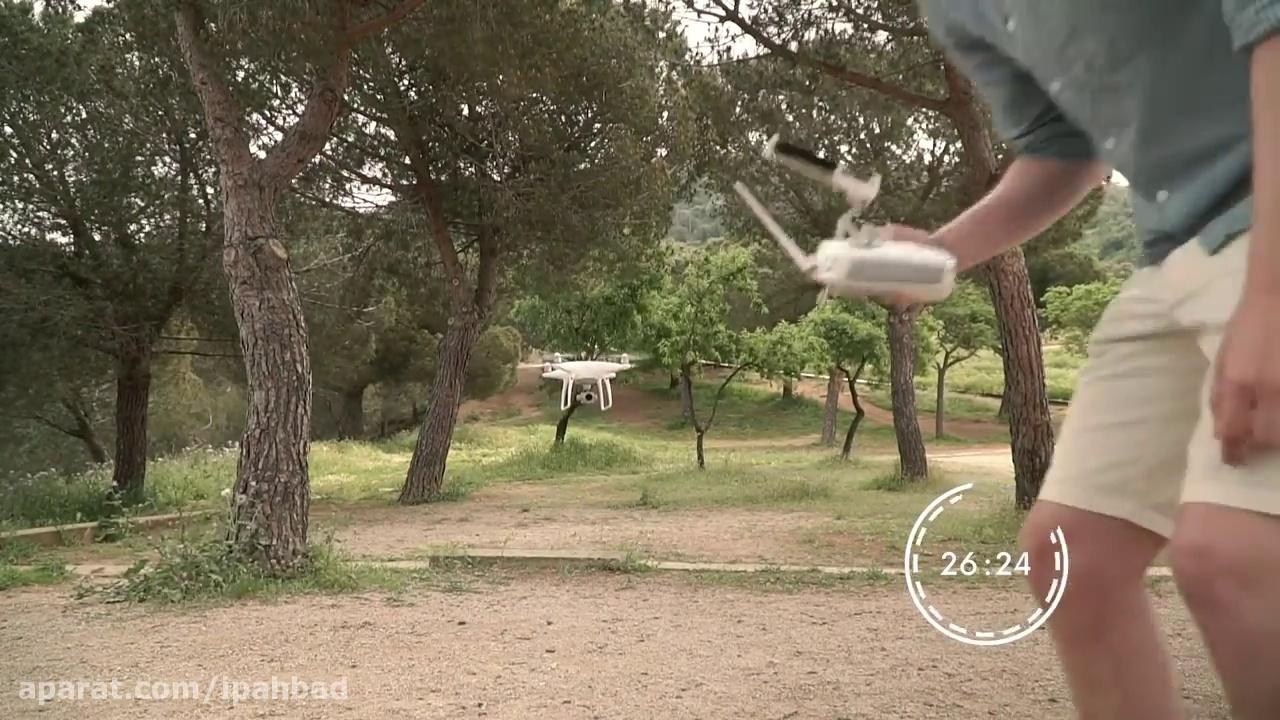drone: (519, 343, 656, 415)
